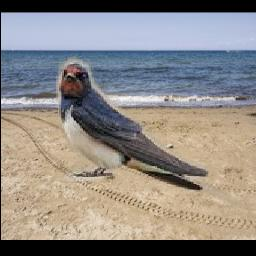Swallow: (57, 57, 256, 210)
